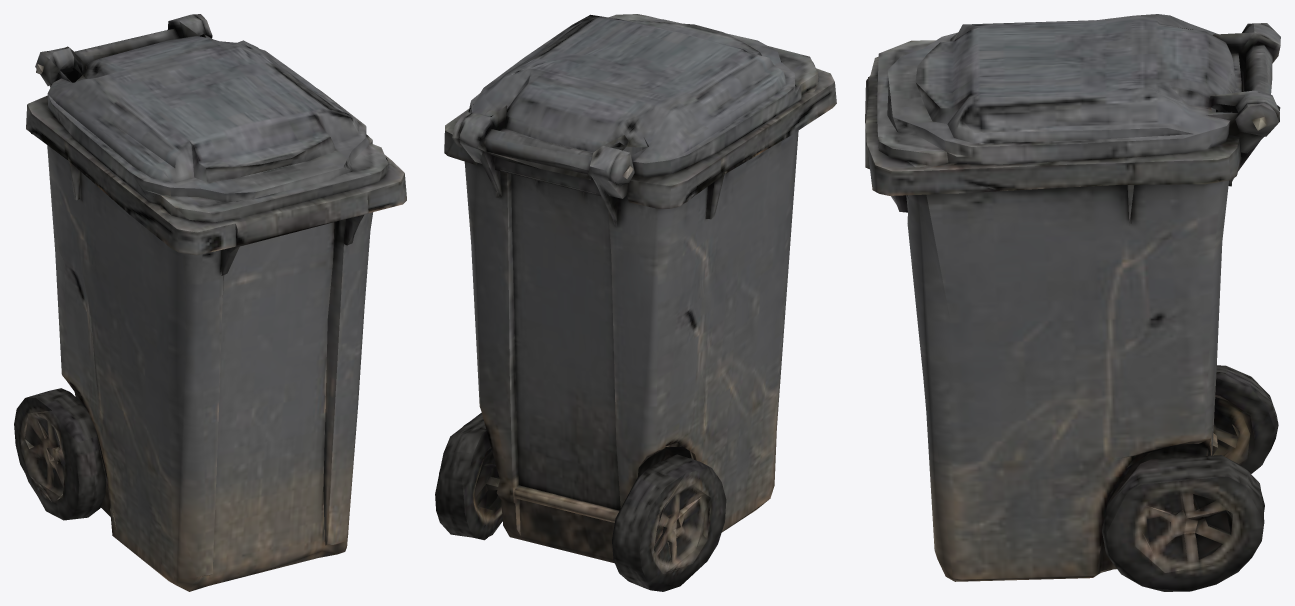
Rendered from p7-wheelie-bin.glb.
The picture shows the model from 3 angles, left to right: view 1: azimuth 30°, elevation 25°; view 2: azimuth 150°, elevation 25°; view 3: azimuth 270°, elevation 25°; orthographic projection. The views are drawn at different scales.
Parts seen in each view (by area): view 1: p7-wheelie-bin; view 2: p7-wheelie-bin; view 3: p7-wheelie-bin.
Part boxes in pixels (x1,y1,x2,y2): p7-wheelie-bin: [14, 14, 406, 591]; p7-wheelie-bin: [435, 14, 836, 591]; p7-wheelie-bin: [865, 14, 1280, 591].
Bounding box in the file's own units: 0.6 × 1.1 × 0.85.
1 material, 1 textured.
